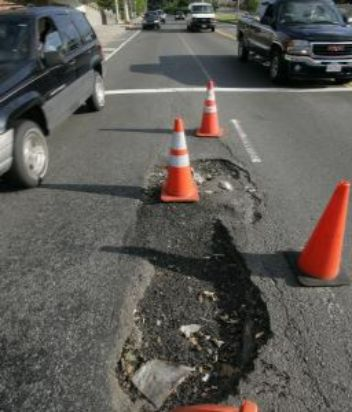pothole: (112, 216, 277, 406)
